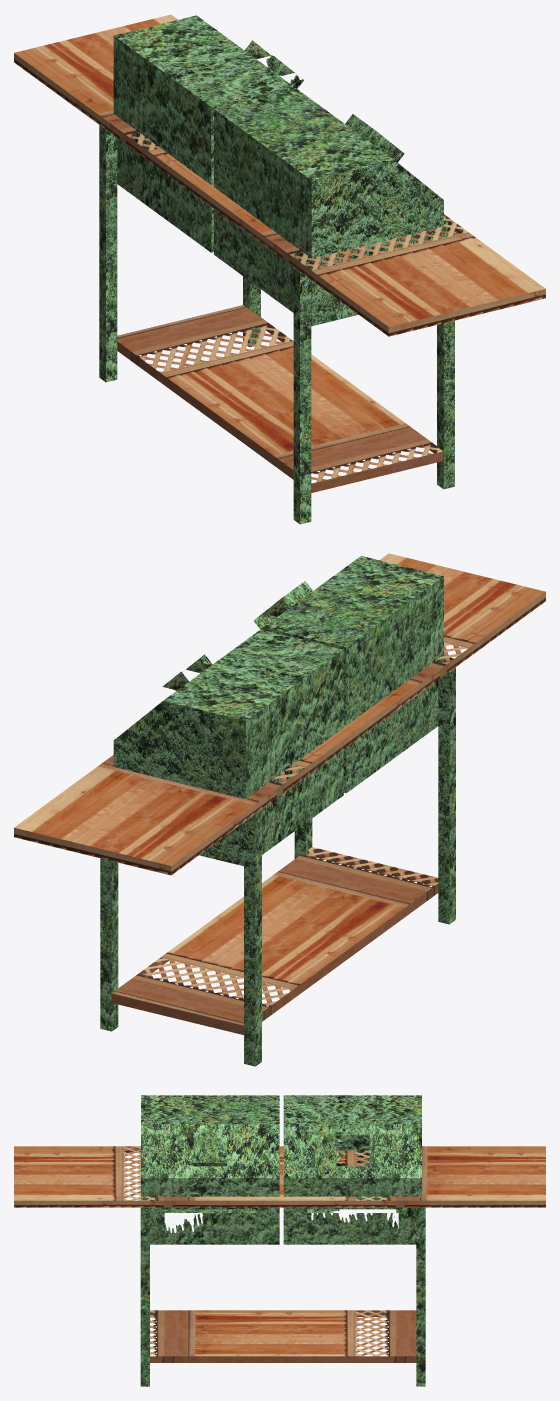
File: BBQ.fbx
The picture shows the model from 3 angles, top to bottom: view 1: azimuth 30°, elevation 25°; view 2: azimuth 150°, elevation 25°; view 3: azimuth 270°, elevation 25°; orthographic projection. The views are drawn at different scales.
Parts seen in each view (by area): view 1: BBQ; view 2: BBQ; view 3: BBQ.
Boxes of the visible parts, x1=… form: BBQ: x1=14, y1=14, x2=545, y2=524; BBQ: x1=14, y1=553, x2=545, y2=1066; BBQ: x1=14, y1=1095, x2=545, y2=1386.
Bounding box in the file's own units: 55.57 × 115 × 229.
